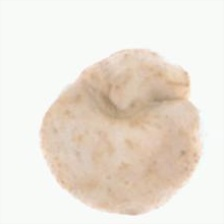L4: (39, 48, 201, 216)
